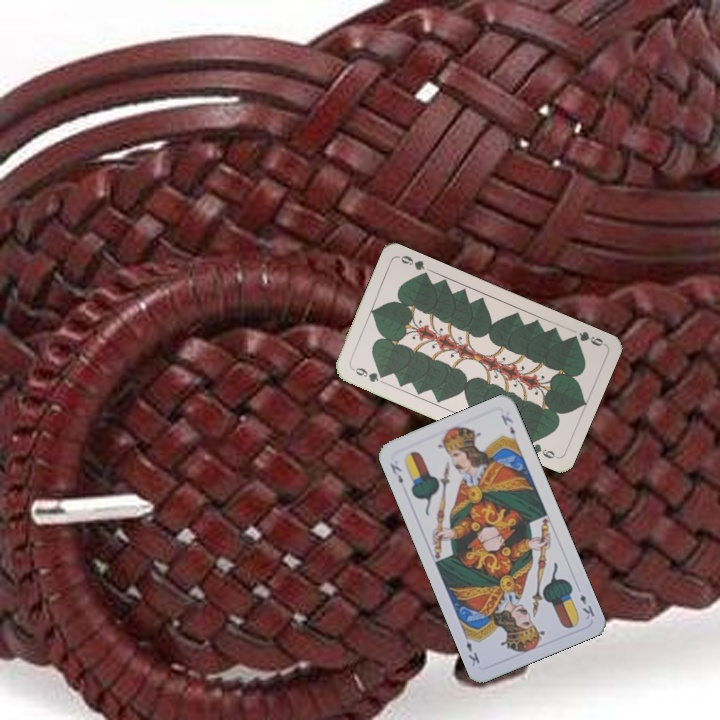EK: (576, 590, 597, 622), (386, 459, 406, 486)
G9: (566, 327, 607, 349), (348, 363, 387, 385)
